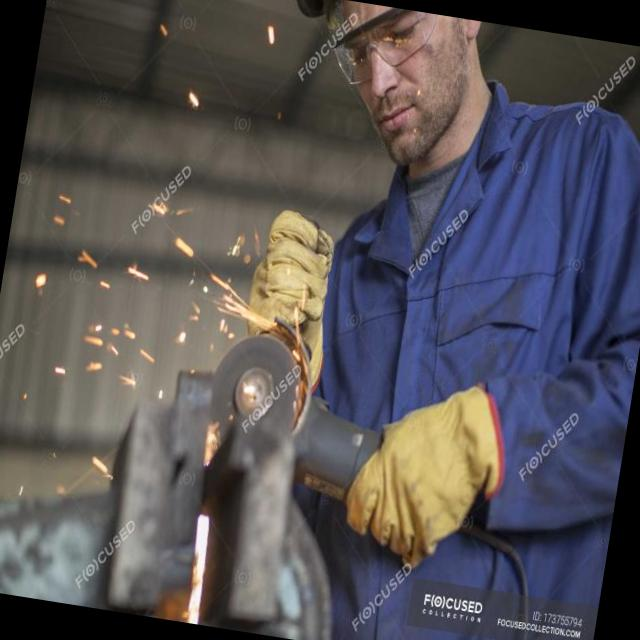Gloves: (368, 372, 516, 580), (208, 196, 350, 356)
